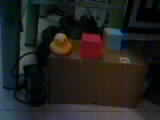duck: (40, 27, 76, 63)
